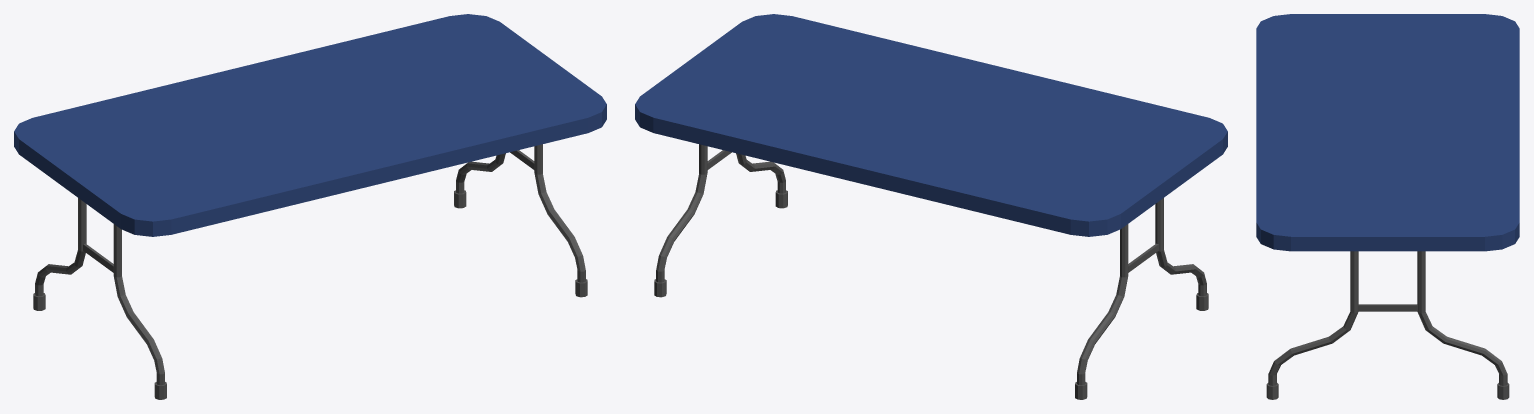
File: Table02.glb
The picture shows the model from 3 angles, left to right: view 1: azimuth 30°, elevation 25°; view 2: azimuth 150°, elevation 25°; view 3: azimuth 270°, elevation 25°; orthographic projection. The views are drawn at different scales.
Parts seen in each view (by area): view 1: Table02; view 2: Table02; view 3: Table02.
Boxes of the visible parts, x1=… form: Table02: x1=14, y1=14, x2=606, y2=399; Table02: x1=635, y1=14, x2=1227, y2=399; Table02: x1=1256, y1=14, x2=1519, y2=399.
Bounding box in the file's own units: 2 × 0.7304 × 1.
